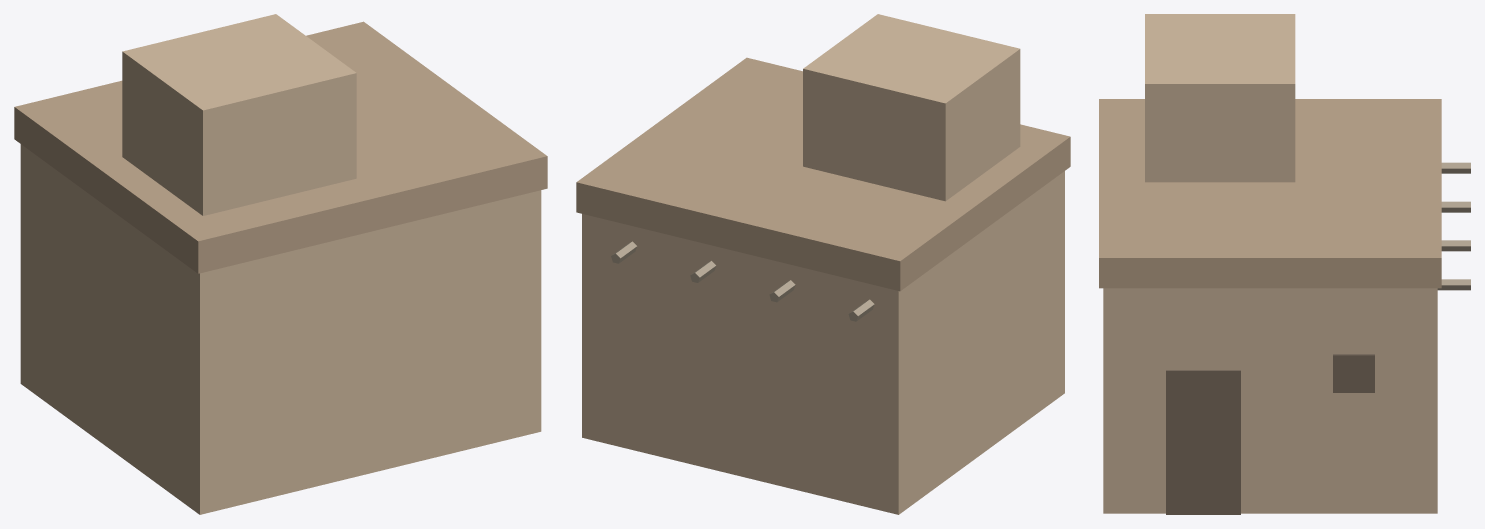
The model's file is MudHouseA.glb.
3 renders of one model, left to right at view 1: azimuth 30°, elevation 25°; view 2: azimuth 150°, elevation 25°; view 3: azimuth 270°, elevation 25°, orthographic. The views are drawn at different scales.
Parts seen in each view (by area): view 1: Mud walls, Parapet, Upper room; view 2: Mud walls, Parapet, Upper room; view 3: Mud walls, Parapet, Upper room, Doorway, Window.
Part boxes in pixels (<box>): Mud walls: <box>20,144,541,514</box>; Parapet: <box>14,21,547,273</box>; Upper room: <box>122,14,356,215</box>; Mud walls: <box>582,171,1064,514</box>; Parapet: <box>576,57,1070,291</box>; Upper room: <box>803,14,1020,201</box>; Mud walls: <box>1103,288,1437,513</box>; Parapet: <box>1099,99,1441,288</box>; Upper room: <box>1145,14,1295,182</box>; Doorway: <box>1166,370,1240,514</box>; Window: <box>1333,354,1374,392</box>.
Size of the model in its own units: 4.5 by 4.7 by 4.45.
